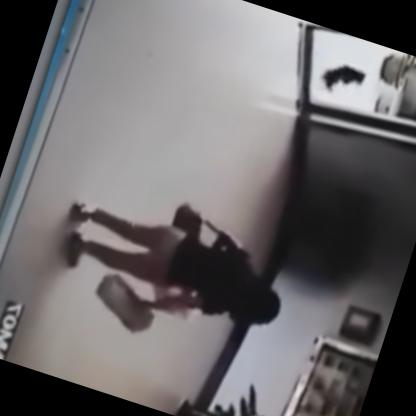Human Body: (37, 171, 302, 378)
